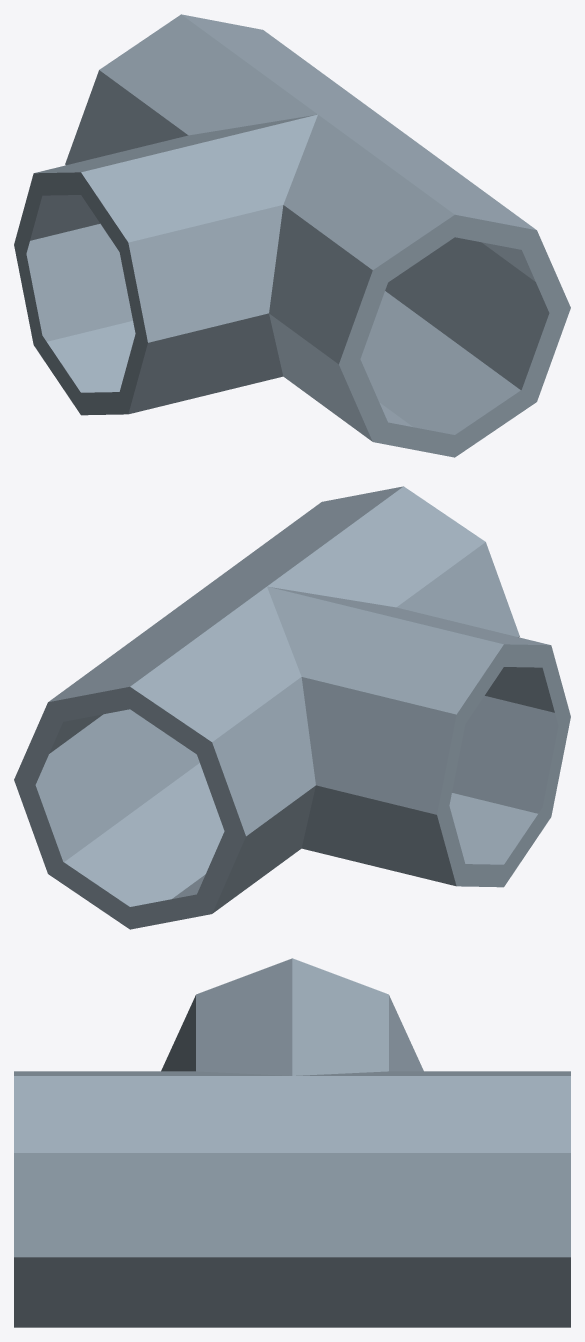
File: pipesplit.glb
3 renders of one model, top to bottom at view 1: azimuth 30°, elevation 25°; view 2: azimuth 150°, elevation 25°; view 3: azimuth 270°, elevation 25°, orthographic.
Parts seen in each view (by area): view 1: pipeSplit; view 2: pipeSplit; view 3: pipeSplit.
Boxes of the visible parts, x1=… form: pipeSplit: x1=14, y1=14, x2=570, y2=457; pipeSplit: x1=14, y1=486, x2=570, y2=929; pipeSplit: x1=14, y1=958, x2=570, y2=1327.
Size of the model in its own units: 7.45 by 4.9 by 10.
